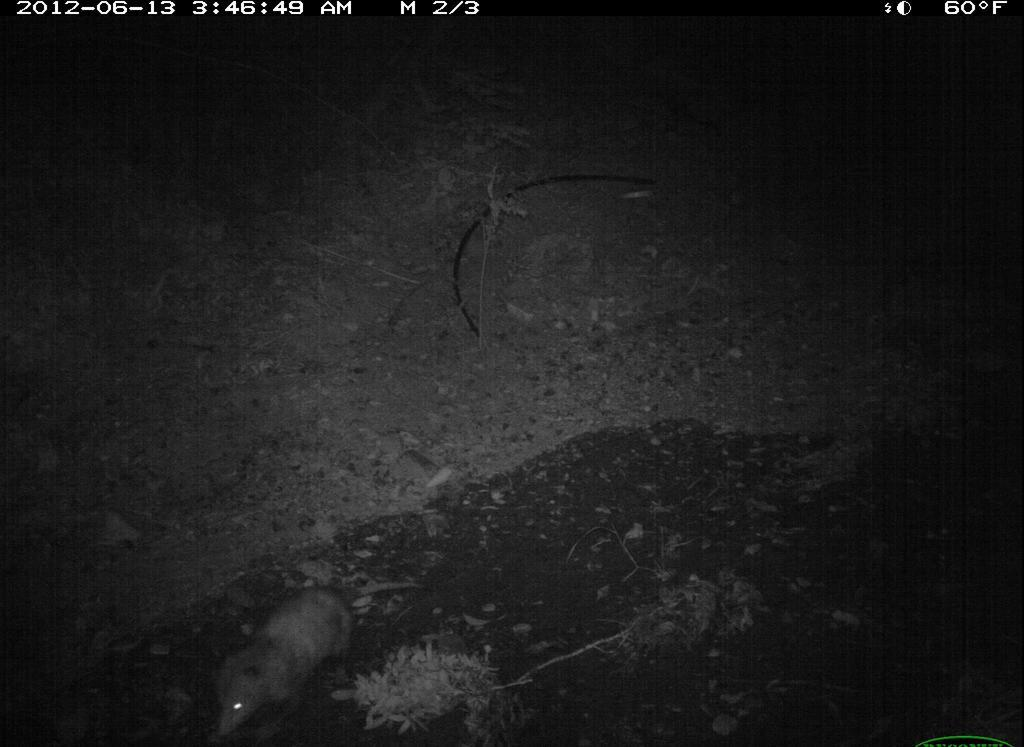opossum: (194, 573, 418, 747)
